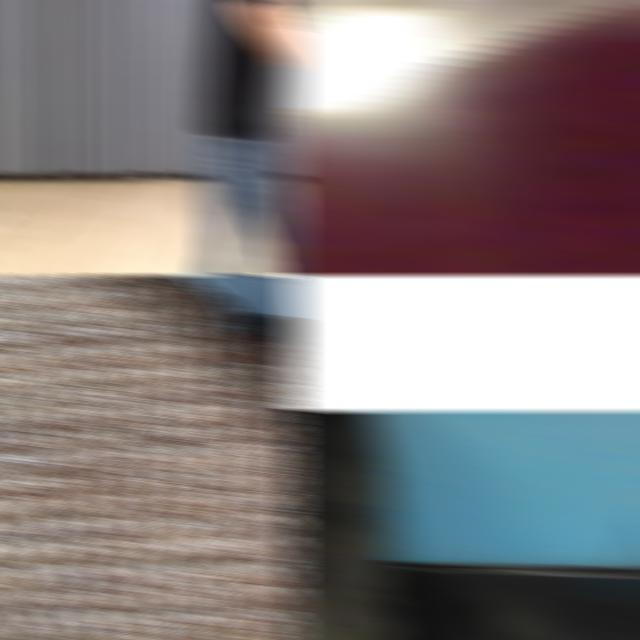Knife_Handle: (286, 0, 640, 114)
